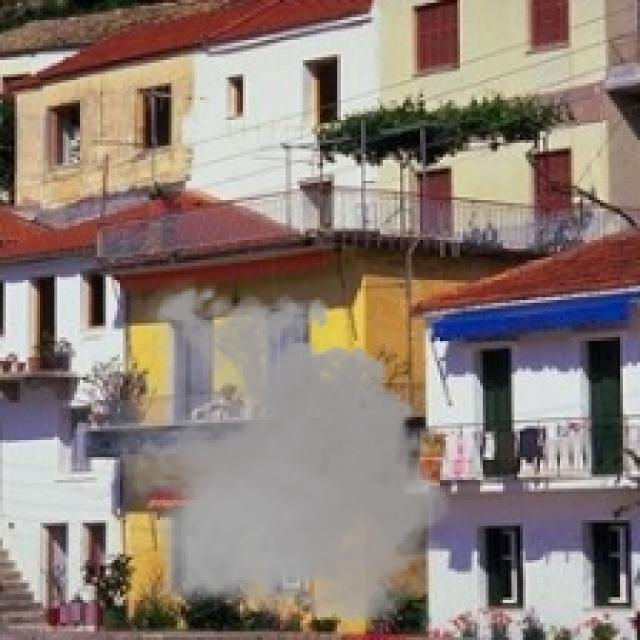smoke: (97, 274, 463, 637)
